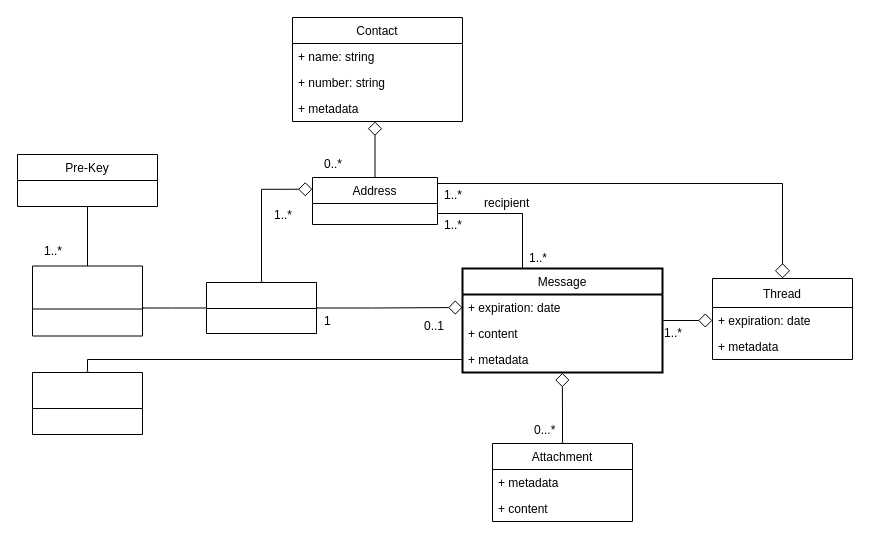
This 870x542 diagram has some shape labels left out. The centre of each missing label's shape, as x and y in pixels:
"Message key" goes at point (87, 403).
"Session" goes at point (261, 308).
"Session Key" goes at point (87, 300).
